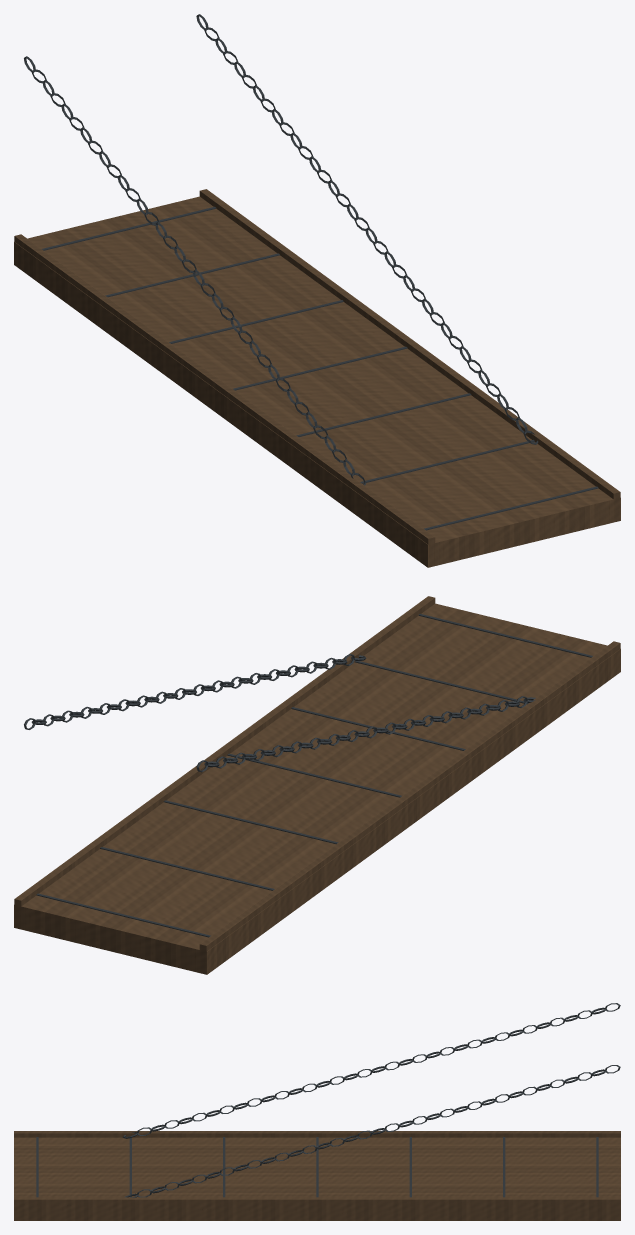
Rendered from Furn_Drawbridge.fbx.
3 views of the same model, one above another, from view 1: azimuth 30°, elevation 25°; view 2: azimuth 150°, elevation 25°; view 3: azimuth 270°, elevation 25° (orthographic). The views are drawn at different scales.
Visible parts, largest first — view 1: Furn_Drawbridge_Mesh; view 2: Furn_Drawbridge_Mesh; view 3: Furn_Drawbridge_Mesh.
Boxes of the visible parts, x1=… form: Furn_Drawbridge_Mesh: x1=14, y1=14, x2=620, y2=567; Furn_Drawbridge_Mesh: x1=14, y1=596, x2=620, y2=974; Furn_Drawbridge_Mesh: x1=14, y1=1003, x2=620, y2=1220.
Bounding box in the file's own units: 7 × 7.21 × 26.
